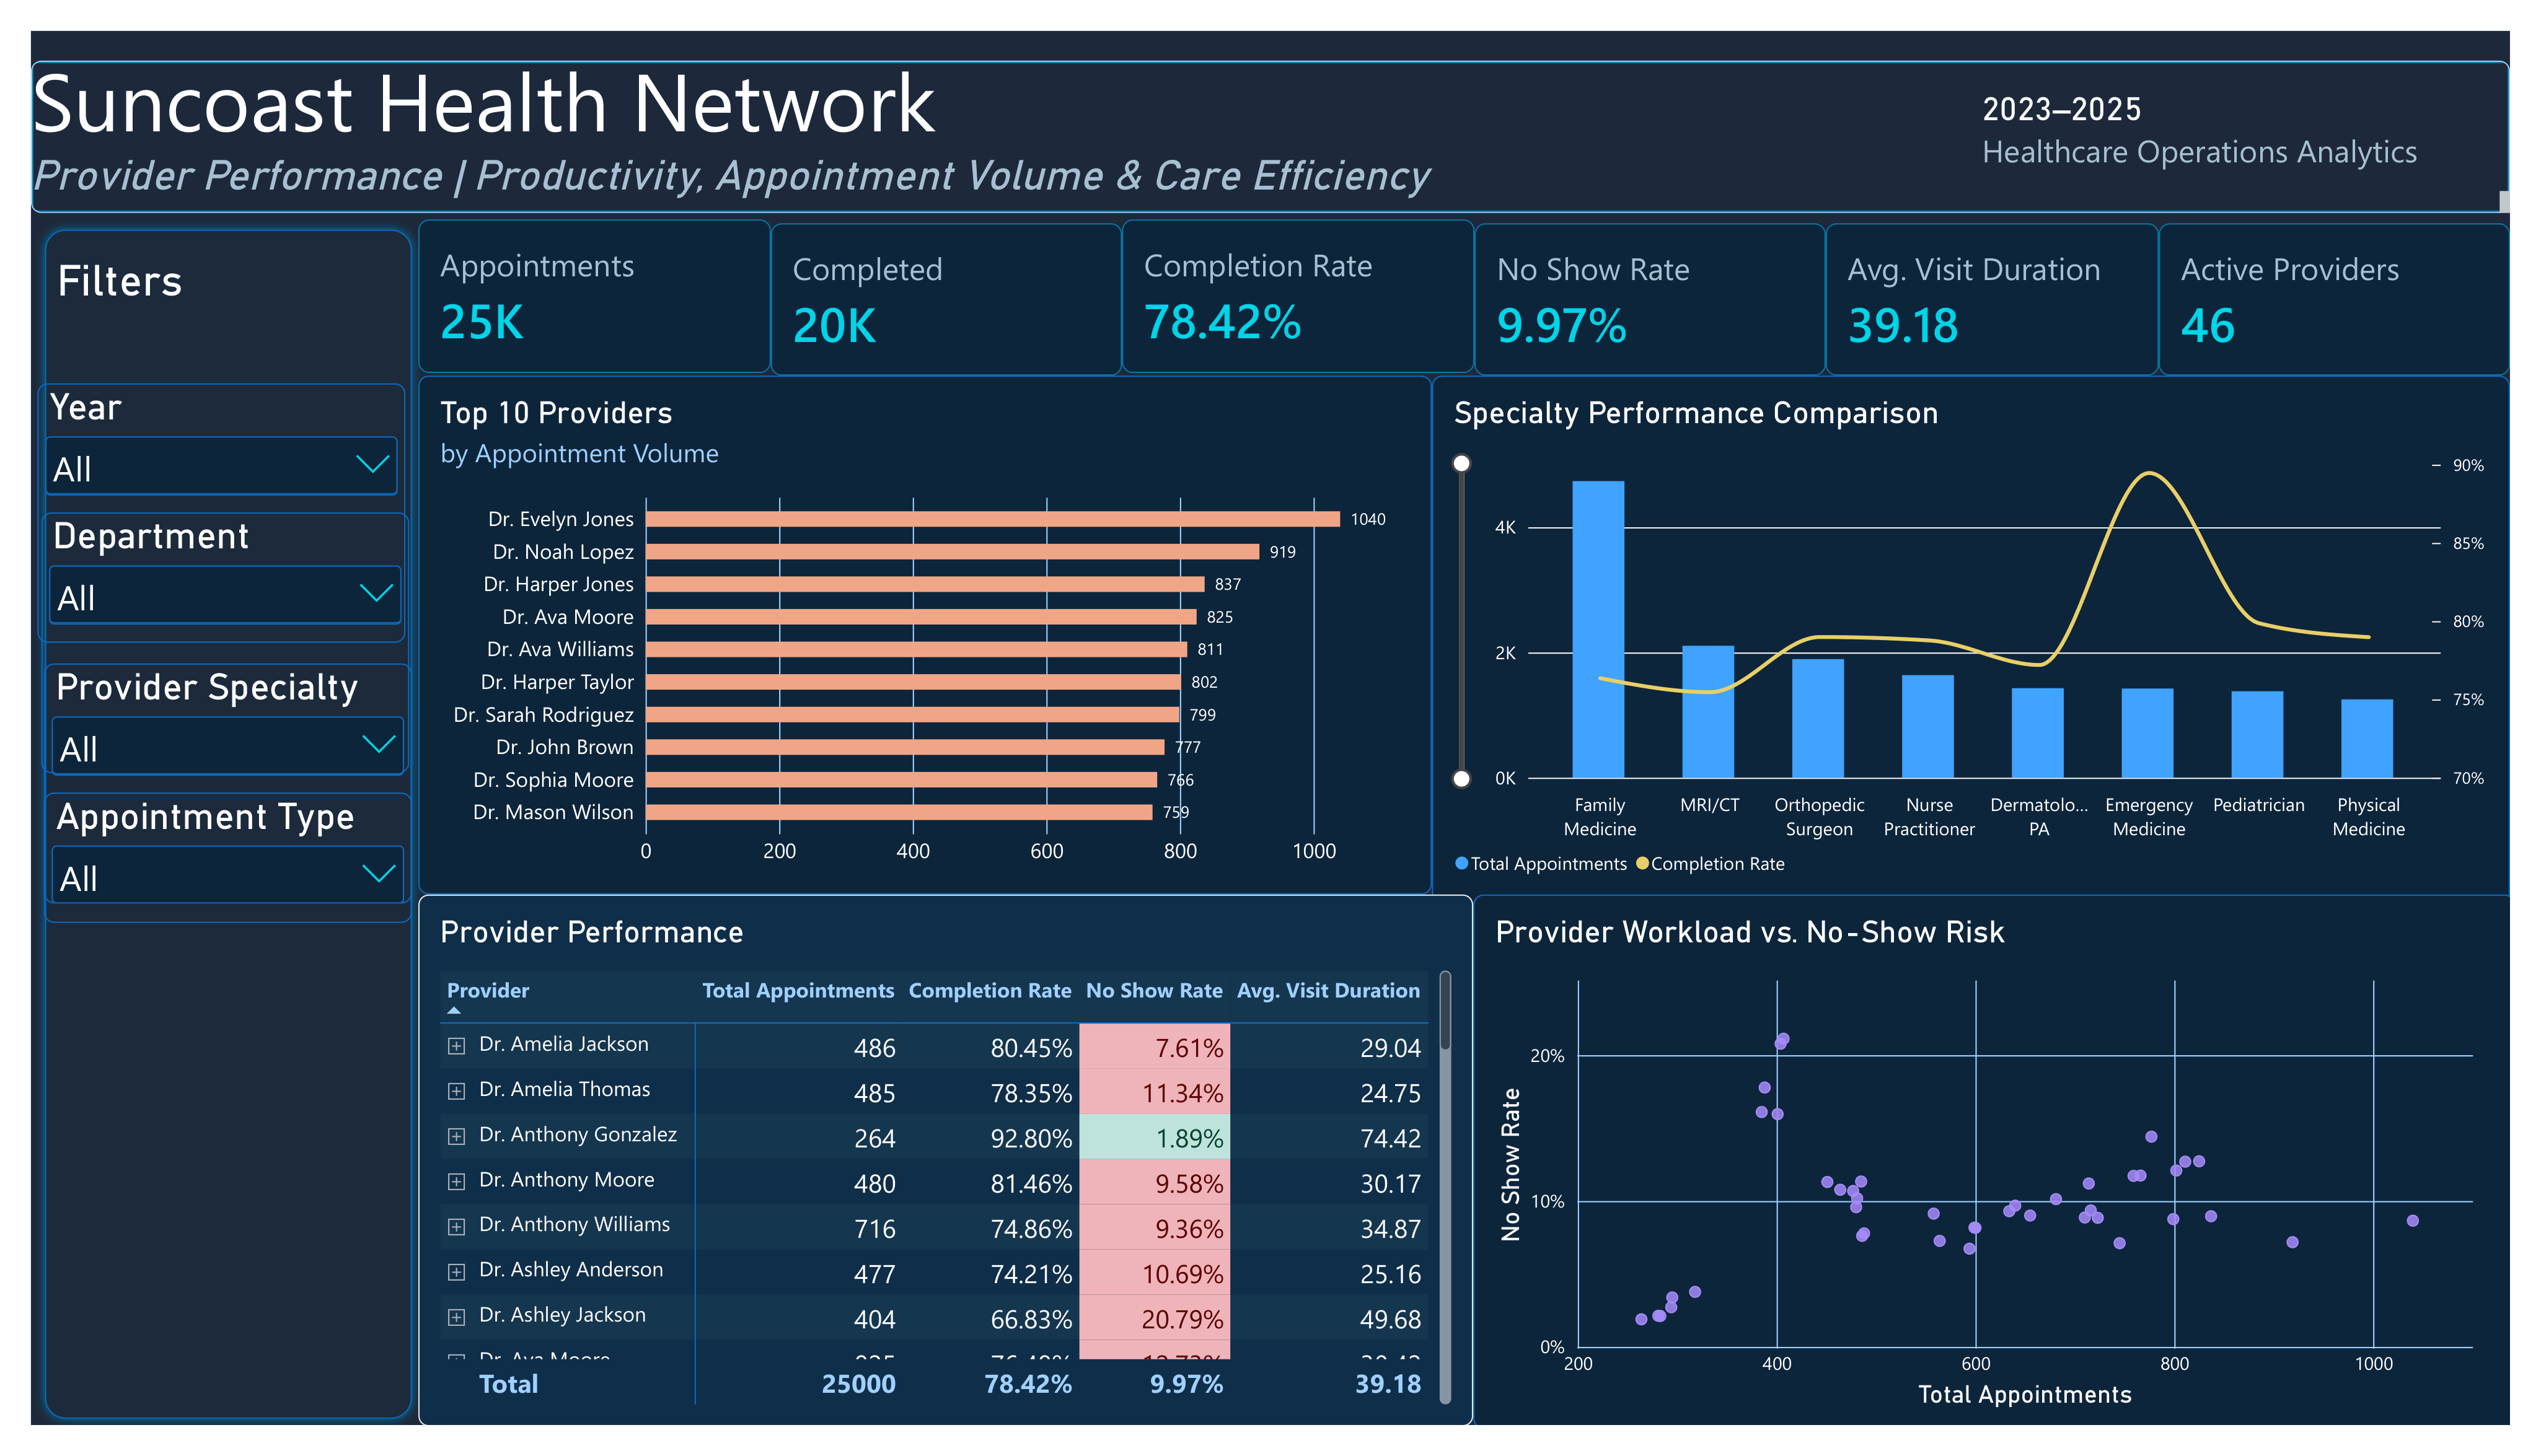

Layout of this report page (visuals, bound fields, positions):
{"tool":"powerbi","page":{"name":"Provider Performance","canvas":[1920,1080],"ordinal":2},"visuals":[{"type":"shape","box":[0,22.7,1920.3,118.6],"z":0},{"type":"textbox","title":"Suncoast Health Network","box":[0,10.1,1140.6,138.8],"z":1000},{"type":"textbox","title":"Provider Performance | Productivity, Appointment Volume & Care Efficiency","box":[0,93.4,1920.3,40.4],"z":2000},{"type":"textbox","title":"2023–2025 ","box":[1511.5,45.4,408.8,95.9],"z":3000},{"type":"shape","title":"Filters","box":[2.5,146.4,300.3,936.2],"z":4000},{"type":"textbox","title":"Filters","box":[20.2,174.1,244.8,93.4],"z":5000},{"type":"slicer","fields":{"Values":["DimDate.Year"]},"box":[5,272.5,285.1,201.9],"z":6000},{"type":"cardVisual","title":"No Show Rate","fields":{"Data":["FactAppointments.Completed Appointments"]},"box":[572.8,148.9,272.5,118.6],"z":7000},{"type":"cardVisual","title":"No Show Rate","fields":{"Data":["DimDate.Total Appointments"]},"box":[300.3,146.4,272.5,118.6],"z":8000},{"type":"cardVisual","title":"No Show Rate","fields":{"Data":["FactAppointments.Completion Rate"]},"box":[845.3,146.4,272.5,118.6],"z":9000},{"type":"cardVisual","title":"No Show Rate","fields":{"Data":["FactAppointments.No Show Rate"]},"box":[1117.9,148.9,272.5,118.6],"z":10000},{"type":"cardVisual","title":"No Show Rate","fields":{"Data":["FactAppointments.Active Providers"]},"box":[1647.8,148.9,272.5,118.6],"z":11000},{"type":"cardVisual","title":"No Show Rate","fields":{"Data":["FactAppointments.Average Visit Duration"]},"box":[1390.4,148.9,257.4,118.6],"z":12000},{"type":"slicer","fields":{"Values":["DimDepartment.DepartmentName"]},"box":[7.6,373.5,285.1,201.9],"z":13000},{"type":"slicer","fields":{"Values":["DimProvider.Specialty"]},"box":[10.1,489.5,285.1,201.9],"z":14000},{"type":"slicer","fields":{"Values":["FactAppointments.AppointmentType"]},"box":[10.1,590.5,285.1,85.8],"z":15000},{"type":"clusteredBarChart","title":"Top 10 Providers","fields":{"Category":["DimProvider.ProviderName"],"Y":["DimDate.Total Appointments"]},"box":[300.3,267.5,784.8,401.2],"z":16000},{"type":"lineClusteredColumnComboChart","title":"Specialty Performance Comparison","fields":{"Category":["DimProvider.Specialty"],"Y":["DimDate.Total Appointments"],"Y2":["FactAppointments.Completion Rate"]},"box":[1085,267.5,835.2,408.8],"z":17000},{"type":"scatterChart","title":"Provider Workload vs. No-Show Risk","fields":{"Category":["DimProvider.ProviderName"],"X":["DimDate.Total Appointments"],"Y":["FactAppointments.No Show Rate"]},"box":[1116.7,669,807.1,414.3],"z":18000},{"type":"pivotTable","title":"Provider Performance","fields":{"Rows":["DimProvider.ProviderName","DimProvider.Specialty"],"Values":["DimDate.Total Appointments","FactAppointments.Completion Rate","FactAppointments.No Show Rate","FactAppointments.Average Visit Duration"]},"box":[300,669,816.7,411.9],"z":19000}]}

Visuals, with their boxes on the page's 1920x1080 design canvas (x1, y1, x2, y2). These are canvas units, not pixel positions in the 2541x1456 screenshot, which may show the page scaled, cropped or inside an application window:
shape: (x1=0, y1=23, x2=1920, y2=141)
"Suncoast Health Network" textbox: (x1=0, y1=10, x2=1141, y2=149)
"Provider Performance | Productivity, Appointment Volume & Care Efficiency" textbox: (x1=0, y1=93, x2=1920, y2=134)
"2023–2025 " textbox: (x1=1512, y1=45, x2=1920, y2=141)
"Filters" shape: (x1=2, y1=146, x2=303, y2=1083)
"Filters" textbox: (x1=20, y1=174, x2=265, y2=268)
slicer - DimDate.Year: (x1=5, y1=272, x2=290, y2=474)
"No Show Rate" cardVisual: (x1=573, y1=149, x2=845, y2=268)
"No Show Rate" cardVisual: (x1=300, y1=146, x2=573, y2=265)
"No Show Rate" cardVisual: (x1=845, y1=146, x2=1118, y2=265)
"No Show Rate" cardVisual: (x1=1118, y1=149, x2=1390, y2=268)
"No Show Rate" cardVisual: (x1=1648, y1=149, x2=1920, y2=268)
"No Show Rate" cardVisual: (x1=1390, y1=149, x2=1648, y2=268)
slicer - DimDepartment.DepartmentName: (x1=8, y1=374, x2=293, y2=575)
slicer - DimProvider.Specialty: (x1=10, y1=490, x2=295, y2=691)
slicer - FactAppointments.AppointmentType: (x1=10, y1=590, x2=295, y2=676)
"Top 10 Providers" clusteredBarChart: (x1=300, y1=268, x2=1085, y2=669)
"Specialty Performance Comparison" lineClusteredColumnComboChart: (x1=1085, y1=268, x2=1920, y2=676)
"Provider Workload vs. No-Show Risk" scatterChart: (x1=1117, y1=669, x2=1924, y2=1083)
"Provider Performance" pivotTable: (x1=300, y1=669, x2=1117, y2=1081)
